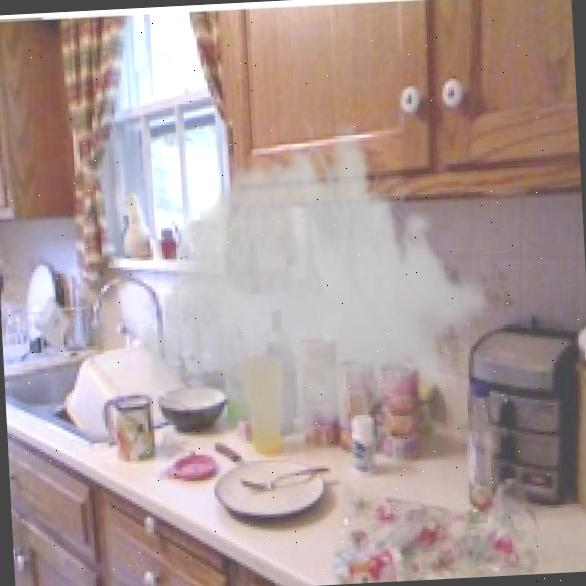smoke: (126, 102, 500, 495)
